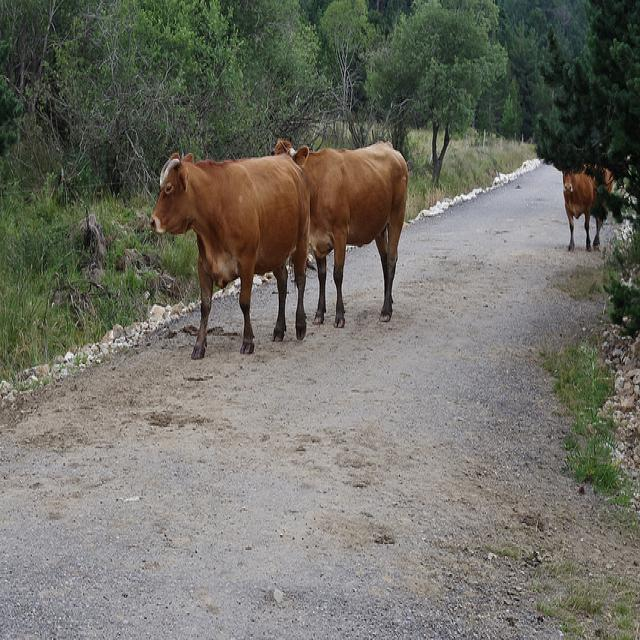cow: (150, 149, 310, 359), (268, 135, 406, 327), (560, 162, 612, 250)
